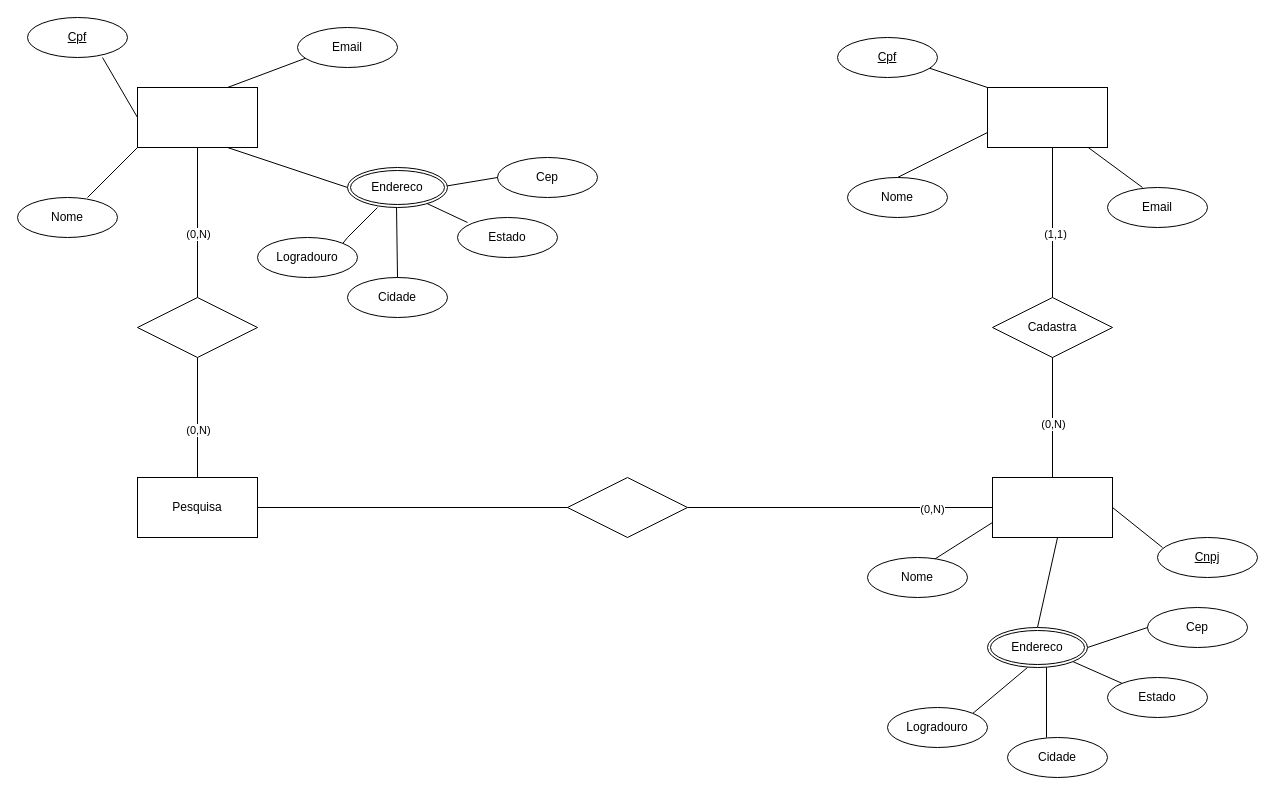
Image size: 1275x795. Some labels were removed from this diagram. Each missing label, with the centre of its shape:
"Administrador" belongs at (1047,117).
"Estabelecimento" belongs at (1052,507).
"Realiza" belongs at (197,327).
"Retorna" belongs at (627,507).
"Usuário" belongs at (197,117).
